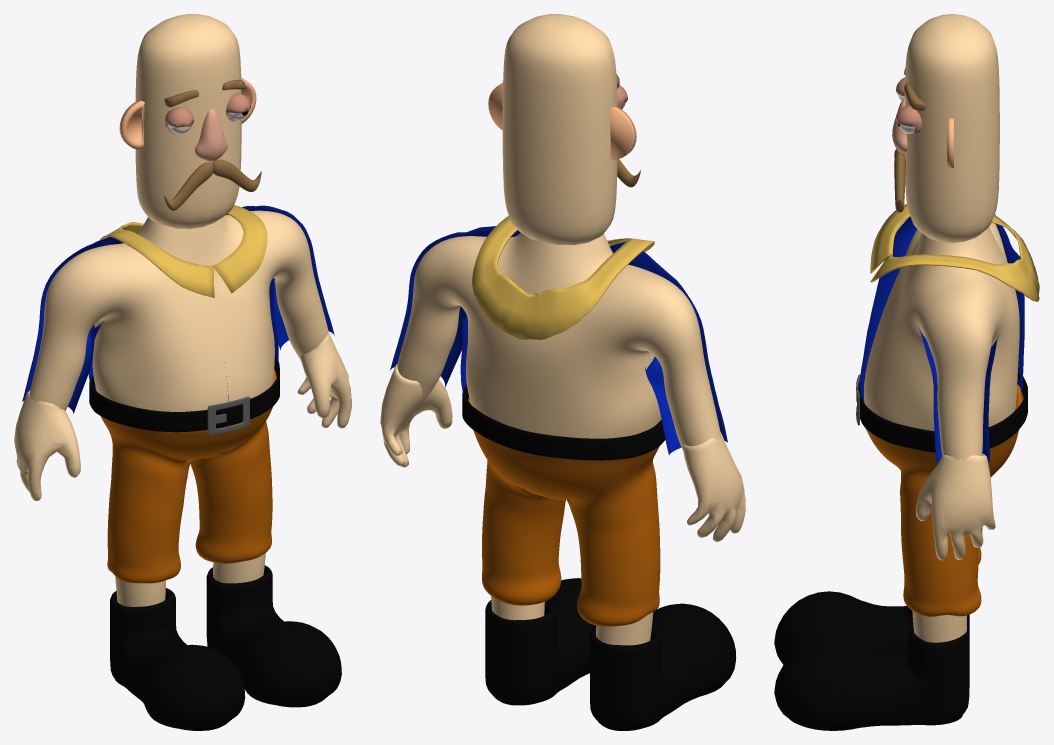
The model's file is final_perso_jam (1).fbx.
3 views of the same model, side by side, from view 1: azimuth 30°, elevation 25°; view 2: azimuth 150°, elevation 25°; view 3: azimuth 270°, elevation 25° (orthographic). The views are drawn at different scales.
Parts seen in each view (by area): view 1: Cube.007; view 2: Cube.007; view 3: Cube.007.
Boxes of the visible parts, x1=… form: Cube.007: x1=14, y1=14, x2=351, y2=730; Cube.007: x1=380, y1=14, x2=745, y2=730; Cube.007: x1=774, y1=14, x2=1039, y2=730.
Size of the model in its own units: 135 by 254 by 91.14.
